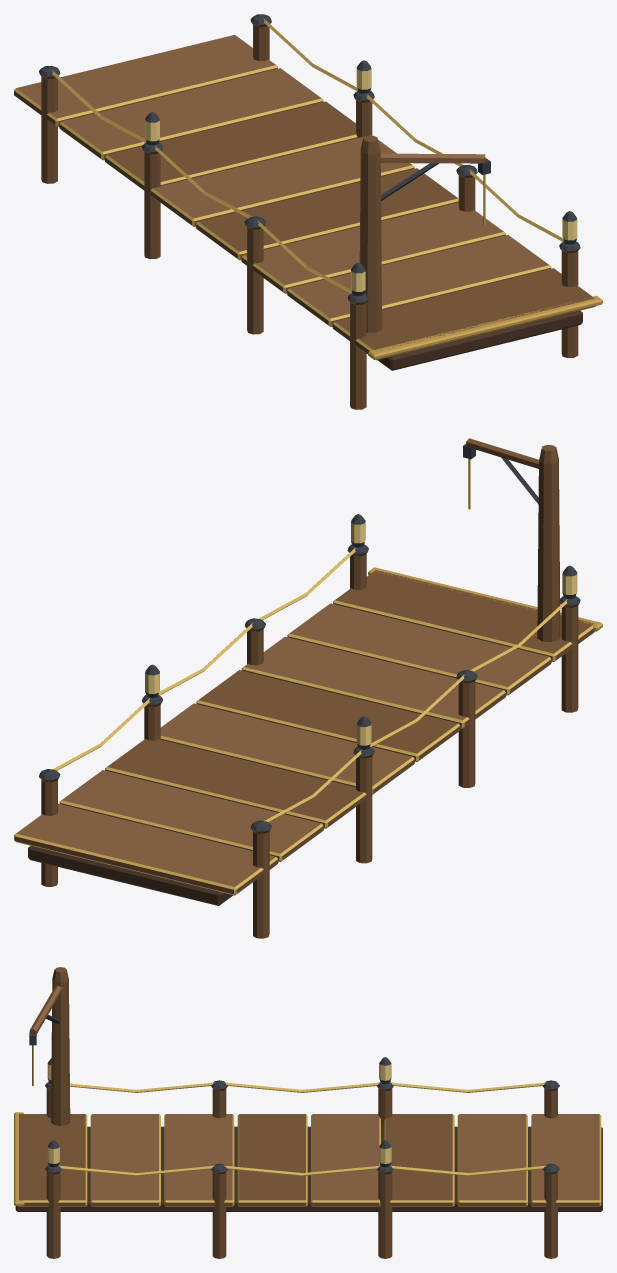
Rendered from SkyDock.obj.
The picture shows the model from 3 angles, top to bottom: view 1: azimuth 30°, elevation 25°; view 2: azimuth 150°, elevation 25°; view 3: azimuth 270°, elevation 25°; orthographic projection. The views are drawn at different scales.
Size of the model in its own units: 6.22 by 6.7 by 17.05.
